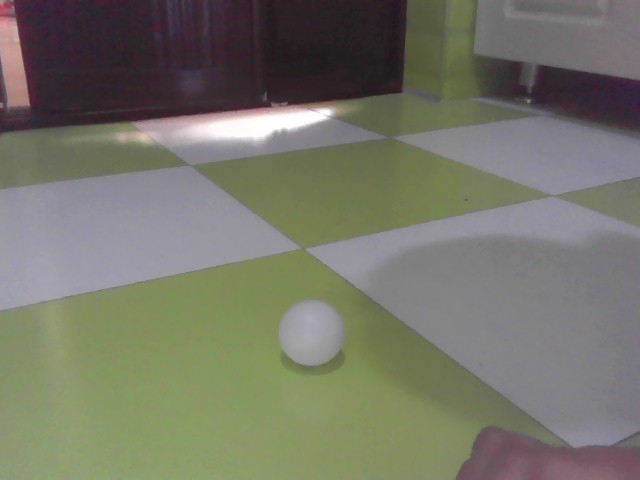ball: (280, 303, 340, 366)
